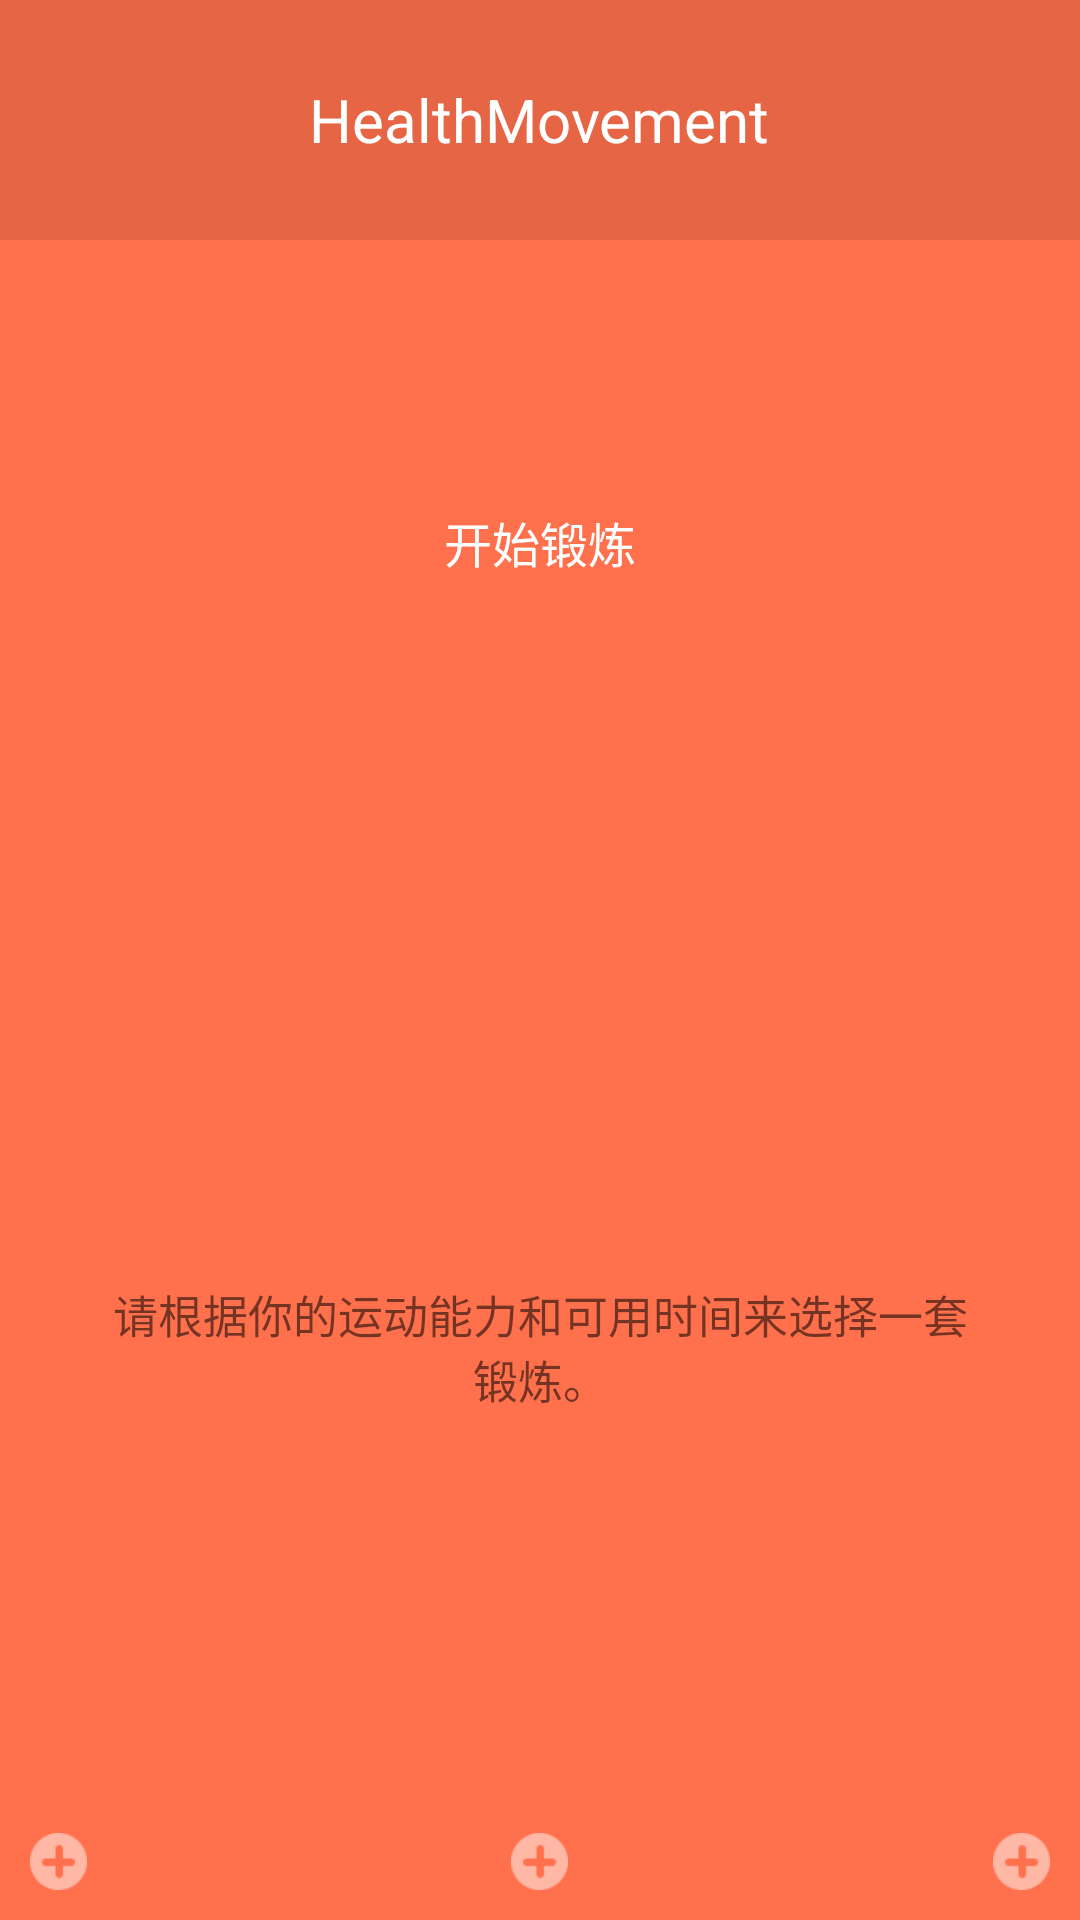

Screen size 1080 × 1920. Icon name, then its center in pixels as point (x, y):
add exercise: point (58, 1861), point (539, 1861), point (1021, 1861)
